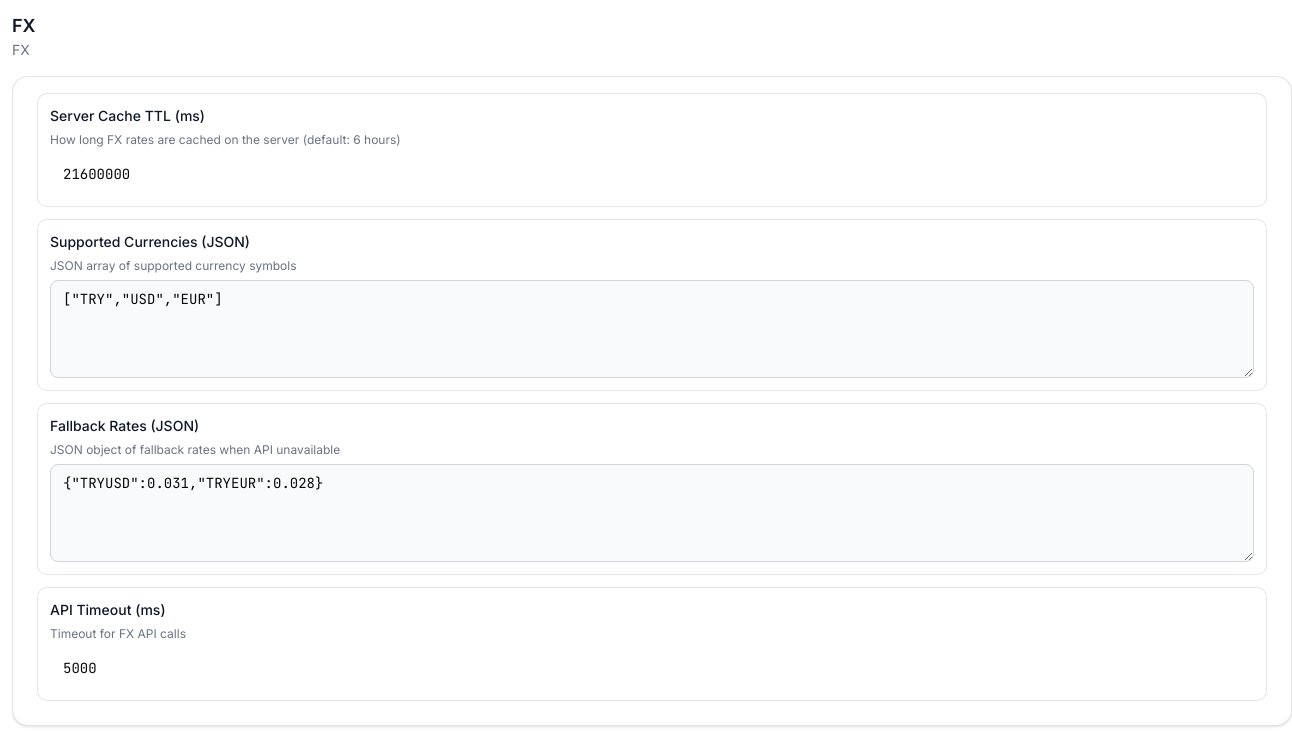
Test: GenericSettingsPanel › JSON Validation › shows error for invalid JSON array
Step 1. Replace the text in the text box below "JSON array of supported currency symbols" with "[invalid json" → (652, 329), box [50,280,1254,378]
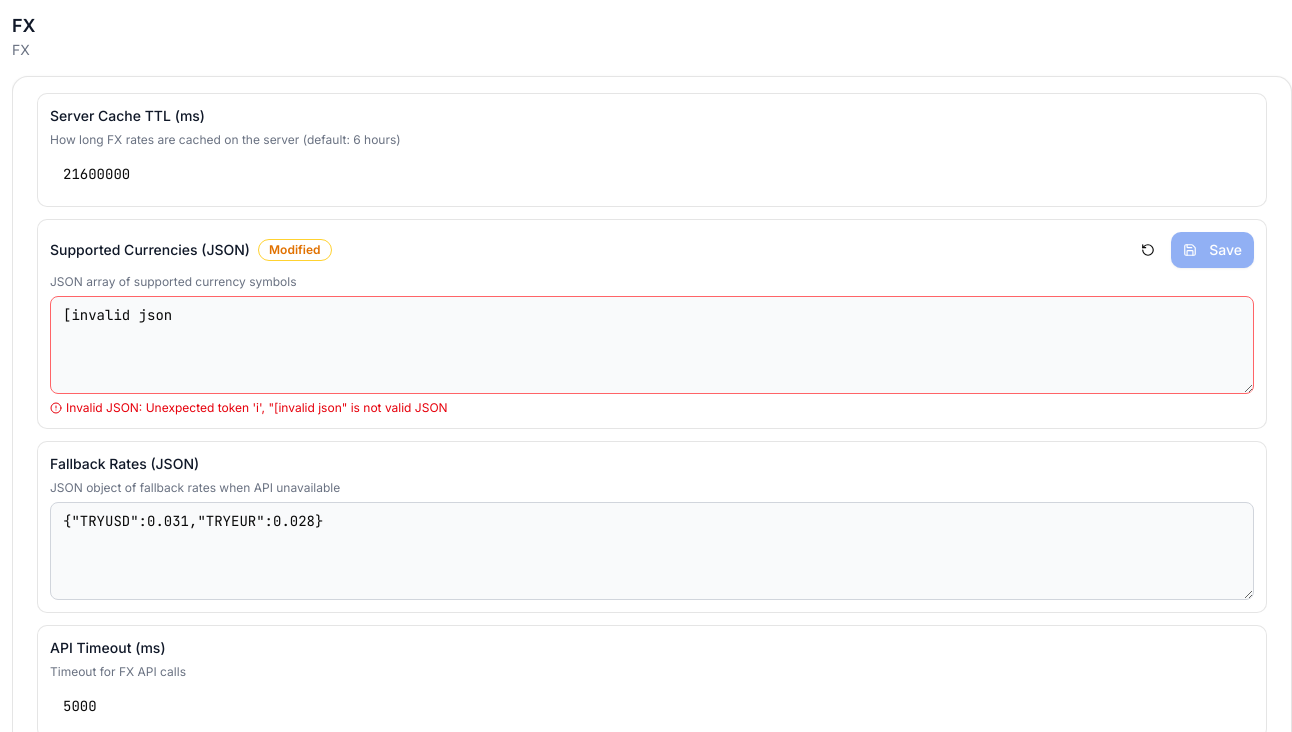
Result: the text "Invalid JSON" is shown at [66,400,448,415]
